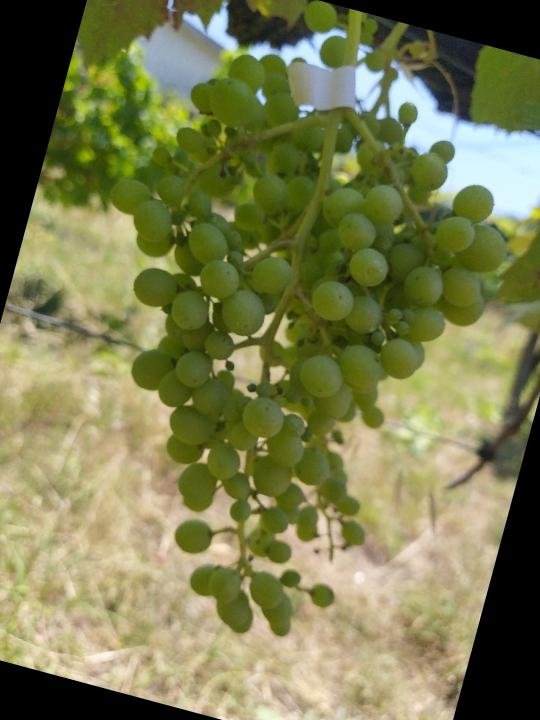grape: (5, 9, 540, 678)
